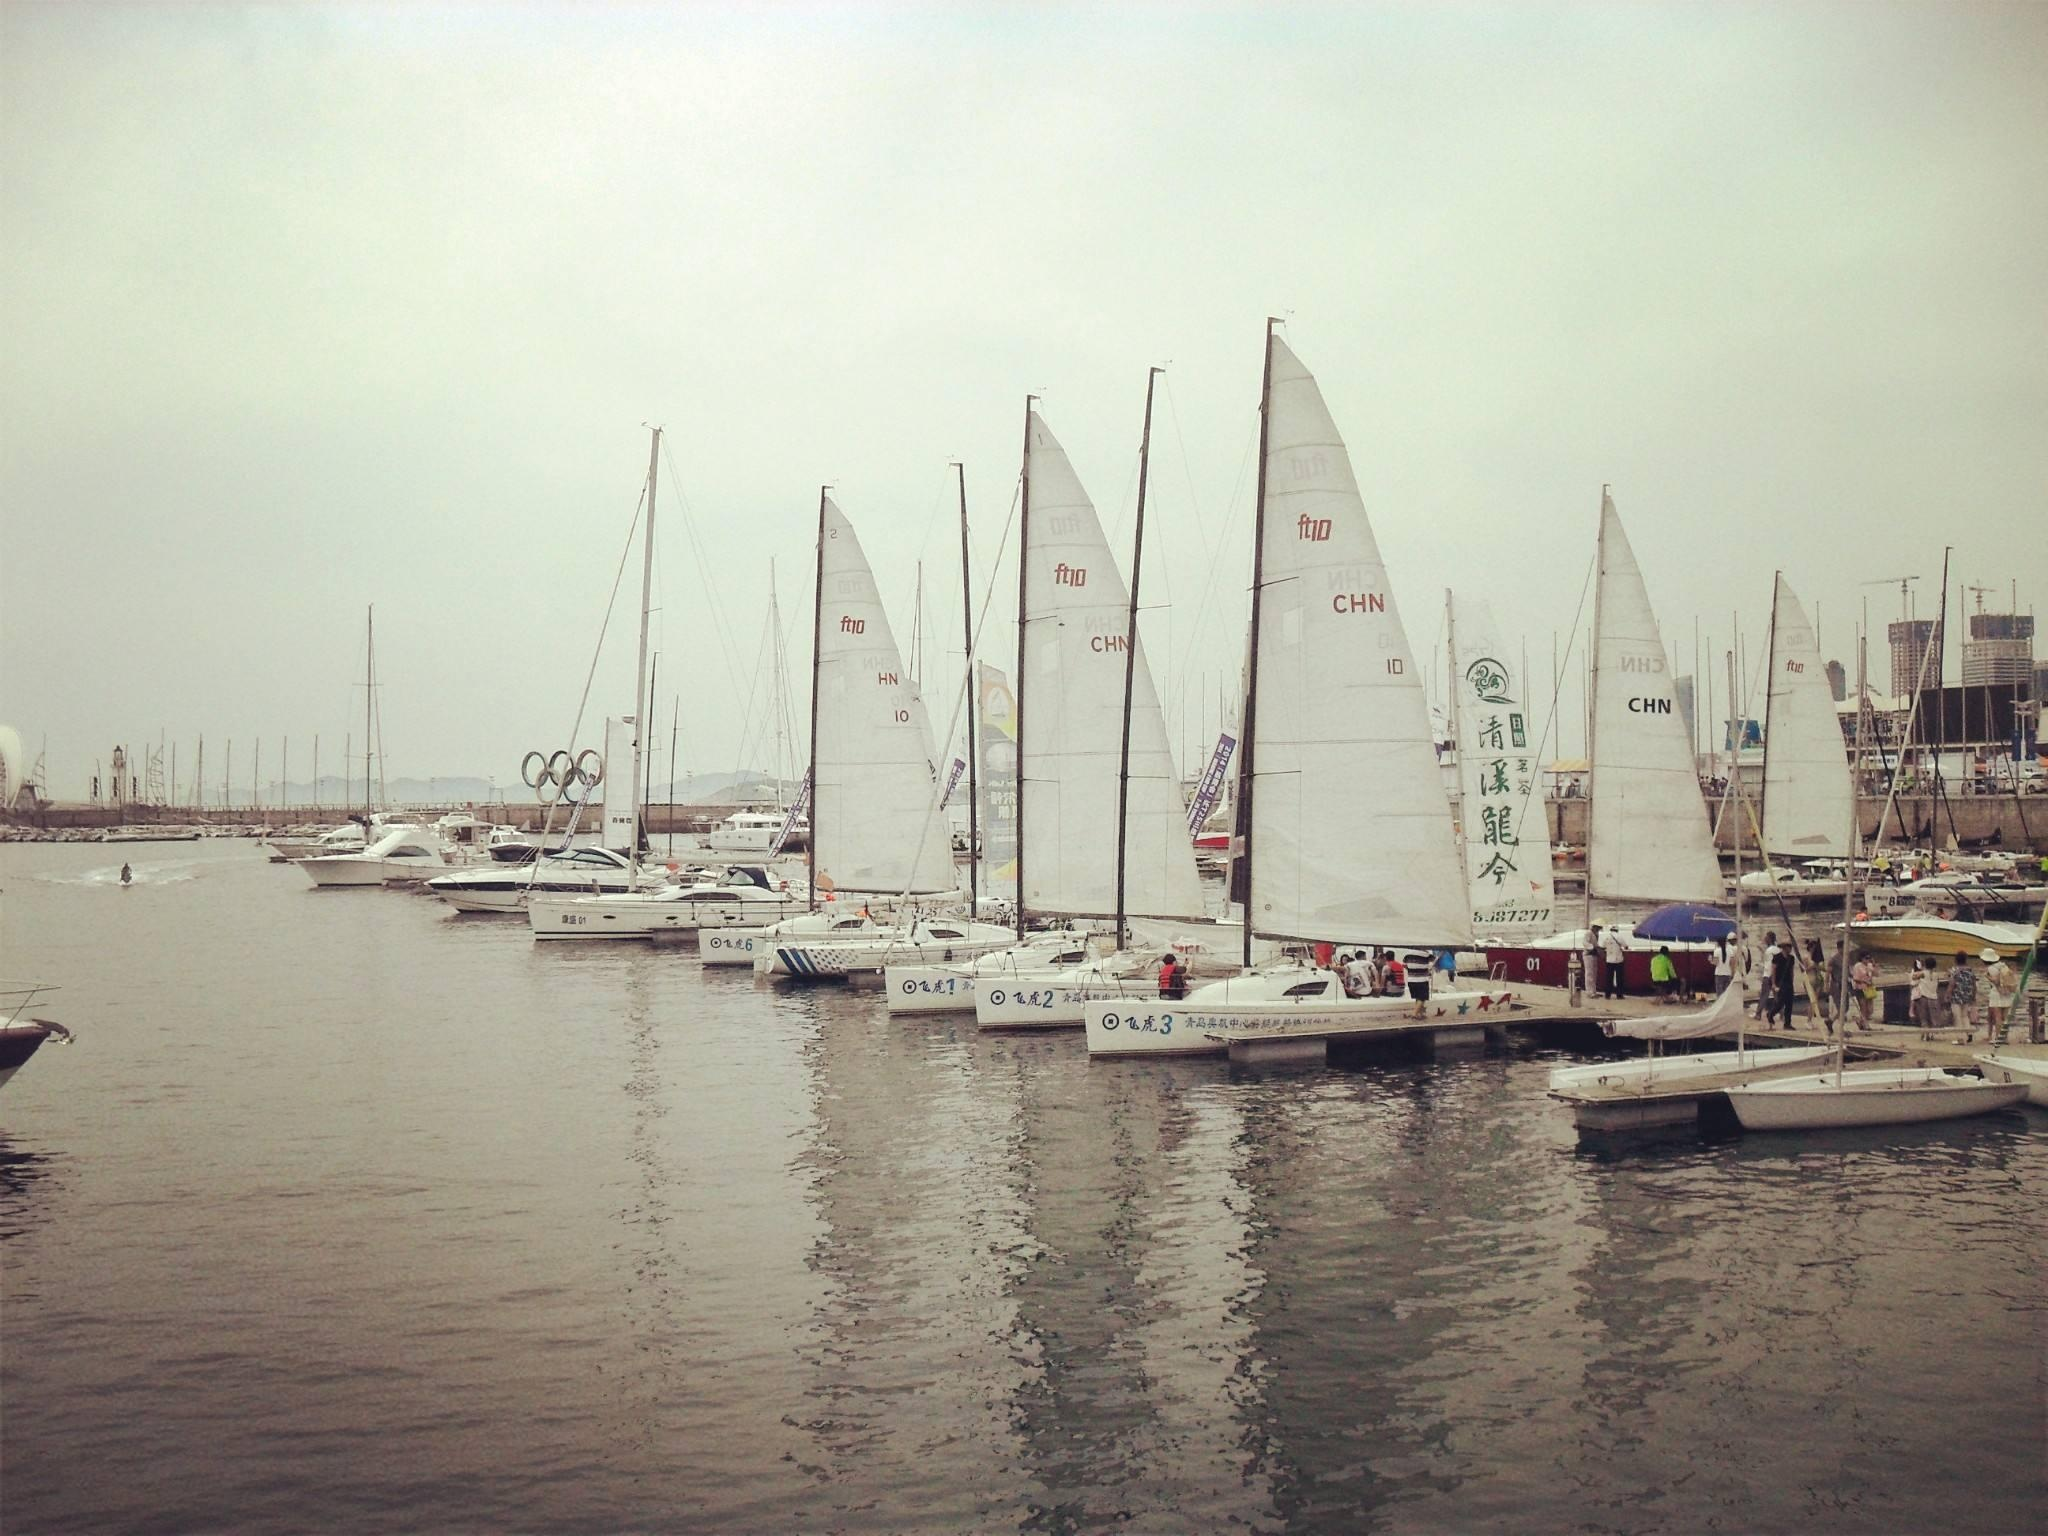fanchuan: (1072, 308, 1574, 1084), (971, 387, 1209, 1039), (1546, 494, 1758, 1150), (689, 481, 951, 979)
